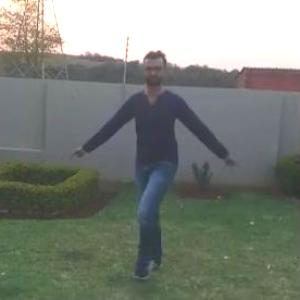land: (96, 59, 216, 236)
